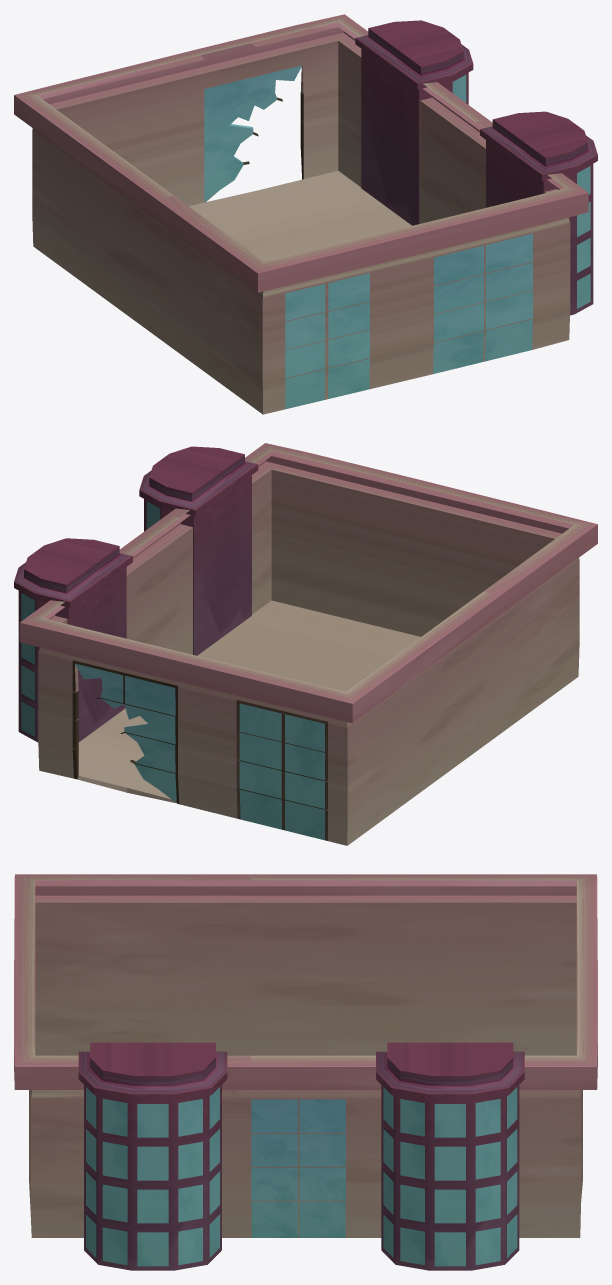
The model's file is hotel_Bottom.fbx.
3 renders of one model, top to bottom at view 1: azimuth 30°, elevation 25°; view 2: azimuth 150°, elevation 25°; view 3: azimuth 270°, elevation 25°, orthographic. The views are drawn at different scales.
Visible parts, largest first — view 1: polySurface10; view 2: polySurface10; view 3: polySurface10.
Part boxes in pixels (x1=…): polySurface10: x1=14, y1=14, x2=597, y2=414; polySurface10: x1=14, y1=443, x2=597, y2=845; polySurface10: x1=14, y1=874, x2=597, y2=1270.
Bounding box in the file's own units: 2749 × 1135 × 3030.
